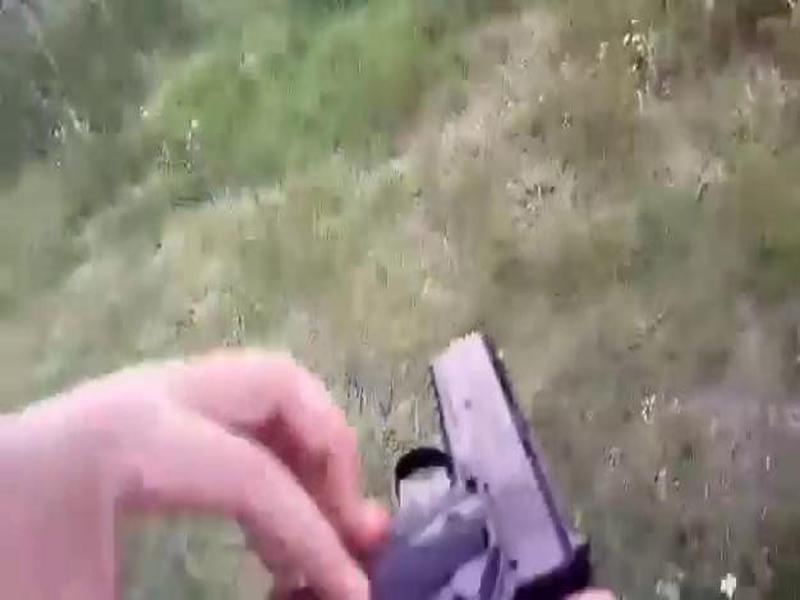Pistola: (307, 306, 598, 600)
